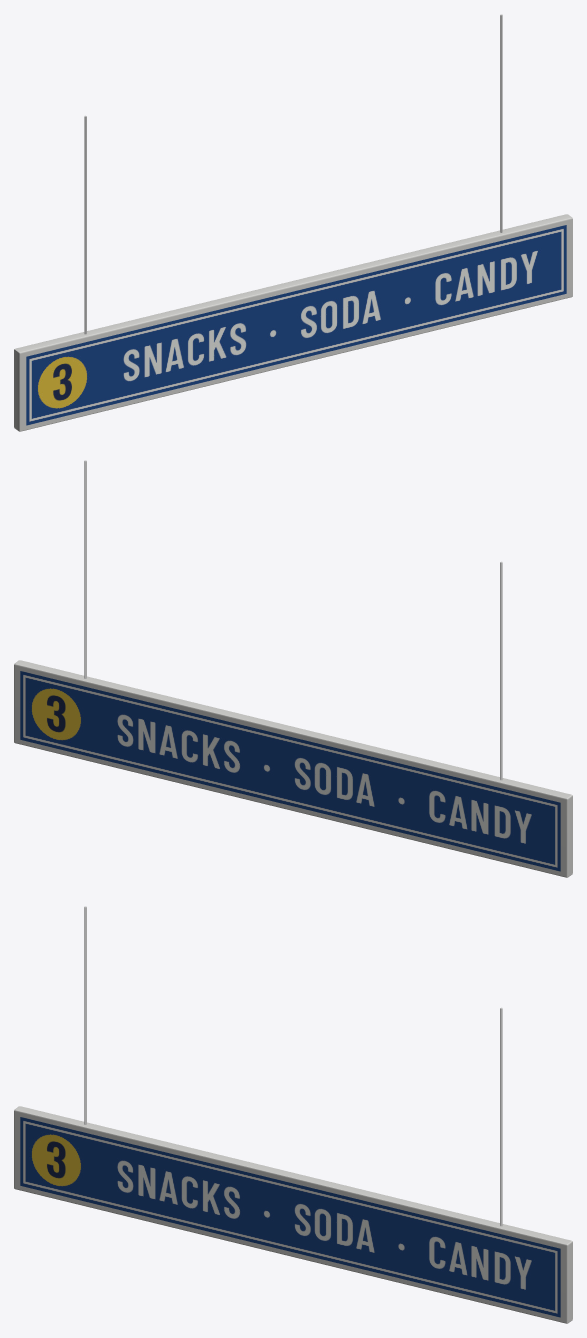
Rendered from SM_Aisle_Sign_3.fbx.
3 renders of one model, top to bottom at view 1: azimuth 30°, elevation 25°; view 2: azimuth 150°, elevation 25°; view 3: azimuth 330°, elevation 25°, orthographic.
Parts seen in each view (by area): view 1: SM_Aisle_Sign_3_1; view 2: SM_Aisle_Sign_3_1; view 3: SM_Aisle_Sign_3_1.
Part boxes in pixels (<box>): SM_Aisle_Sign_3_1: <box>14,14,572,431</box>; SM_Aisle_Sign_3_1: <box>14,460,572,877</box>; SM_Aisle_Sign_3_1: <box>14,906,572,1323</box>.
Size of the model in its own units: 160 by 82 by 3.1.
